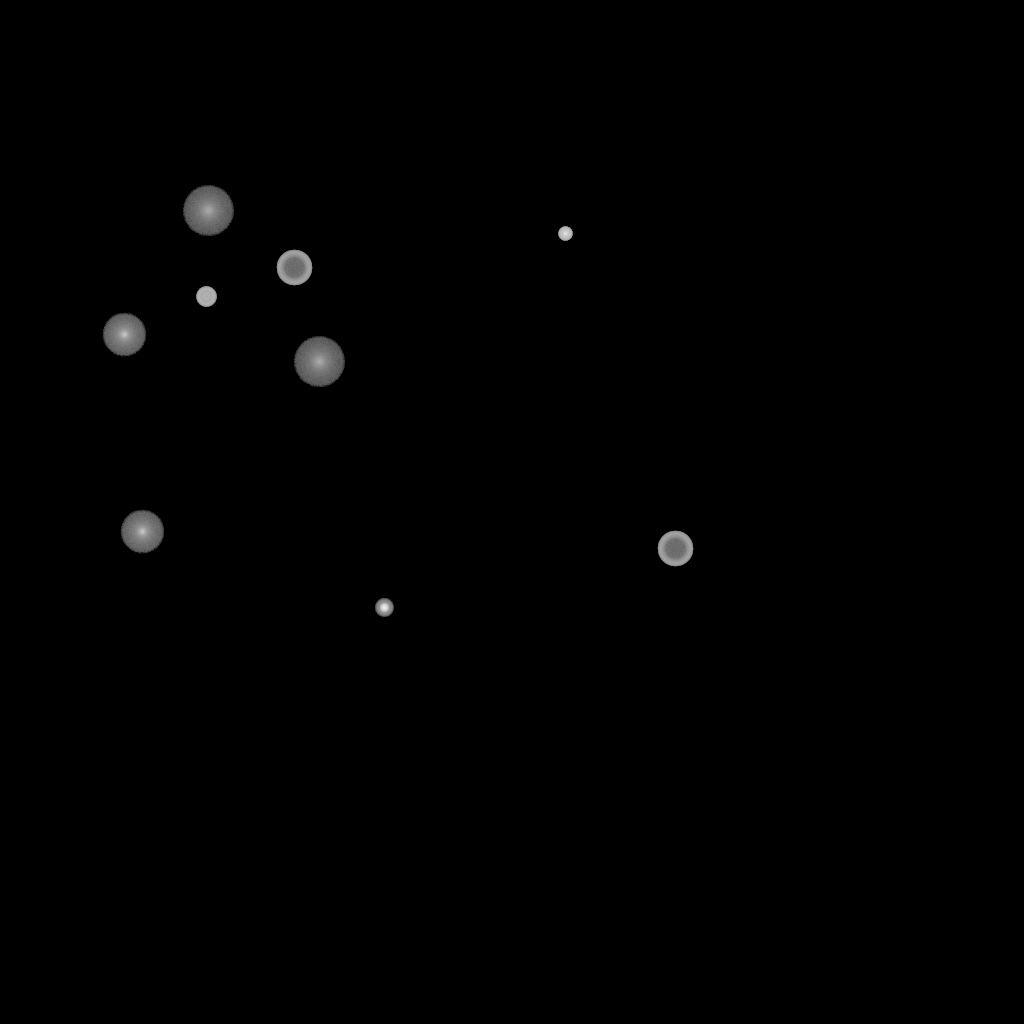depth:-20: (375, 599, 393, 617)
depth:-30: (558, 227, 572, 241)
depth:-40: (196, 287, 216, 307)
depth:-60: (657, 531, 693, 567), (276, 250, 312, 286)
depth:10: (120, 510, 164, 554), (102, 313, 146, 357)
depth:20: (182, 186, 234, 236), (293, 337, 345, 387)
